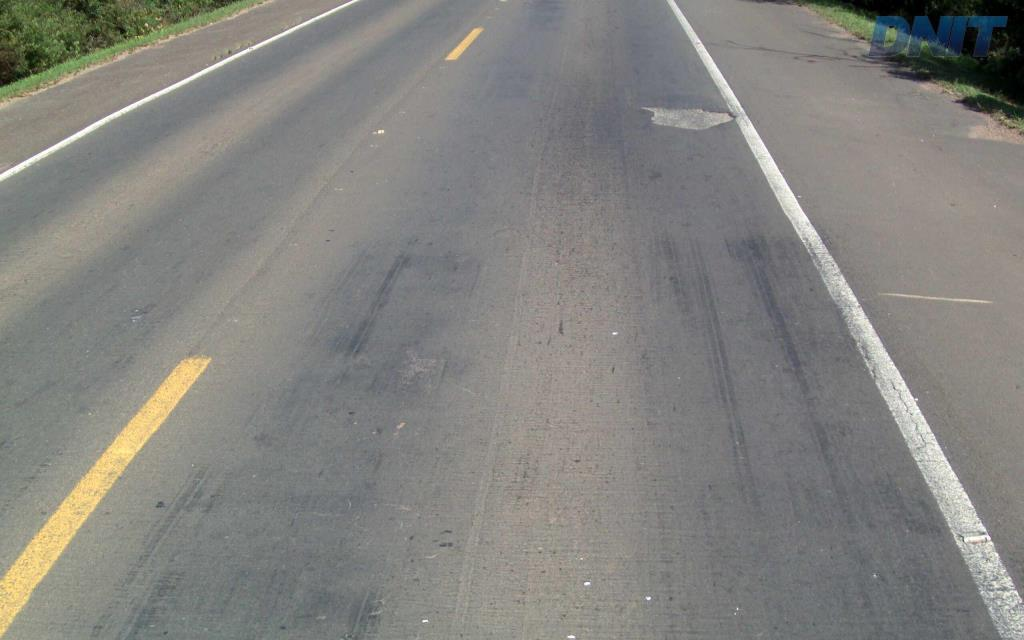pothole: (635, 96, 736, 140)
